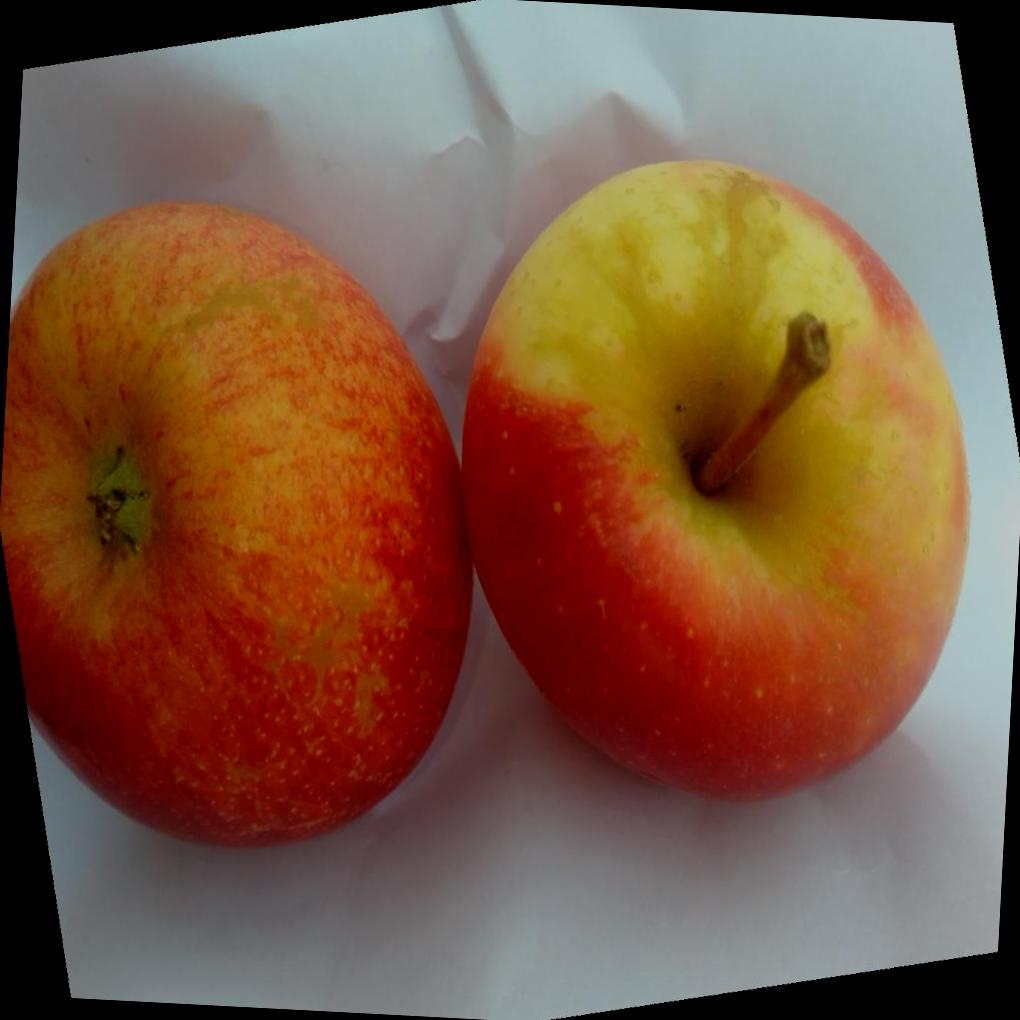FreshGuava: (0, 159, 972, 854)
